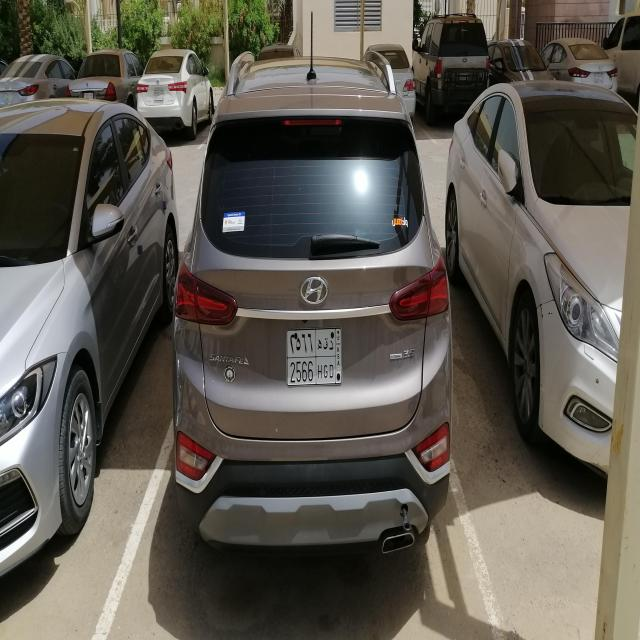license_plate: (284, 328, 343, 392), (154, 89, 164, 101), (459, 71, 469, 81), (594, 73, 603, 84), (4, 92, 13, 103), (84, 92, 93, 100)
